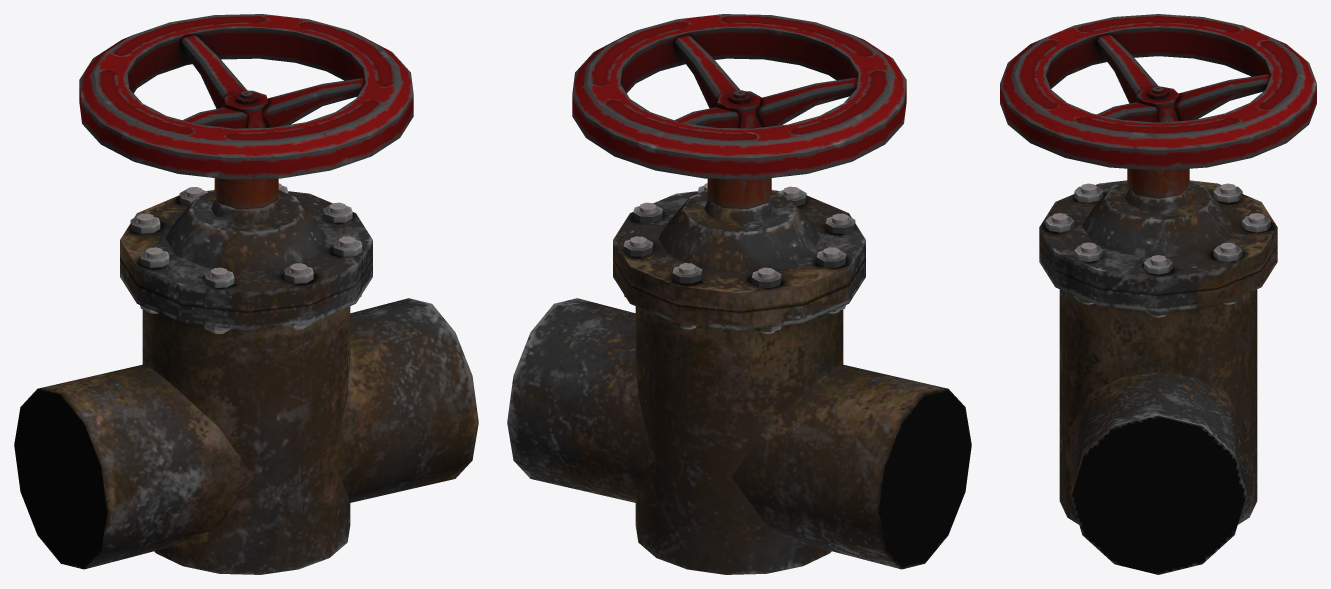
The model's file is NM_BigTube_Valve_03.fbx.
3 views of the same model, side by side, from view 1: azimuth 30°, elevation 25°; view 2: azimuth 150°, elevation 25°; view 3: azimuth 270°, elevation 25° (orthographic). The views are drawn at different scales.
Visible parts, largest first — view 1: BigTube_09_low002, Detail_06_low003; view 2: BigTube_09_low002, Detail_06_low003; view 3: BigTube_09_low002, Detail_06_low003.
Boxes of the visible parts, x1,y1,x2,y2 form: BigTube_09_low002: (14,183,478,574); Detail_06_low003: (79,14,413,209); BigTube_09_low002: (507,183,971,574); Detail_06_low003: (572,14,906,209); BigTube_09_low002: (1039,180,1277,574); Detail_06_low003: (1000,14,1316,198).
Bounding box in the file's own units: 70.07 × 81.67 × 54.98.
